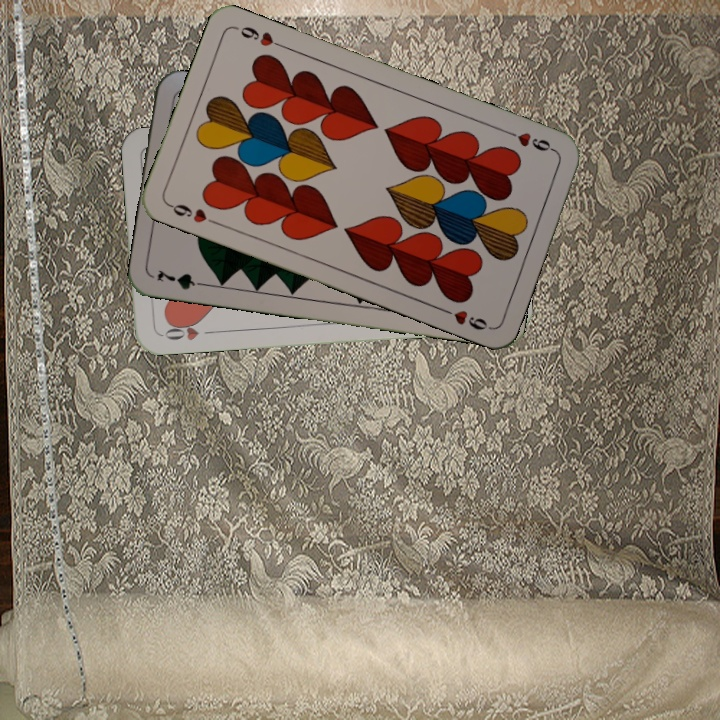G7: (152, 265, 211, 292)
H9: (164, 199, 221, 228), (502, 127, 559, 155)
HO: (158, 317, 217, 343)
